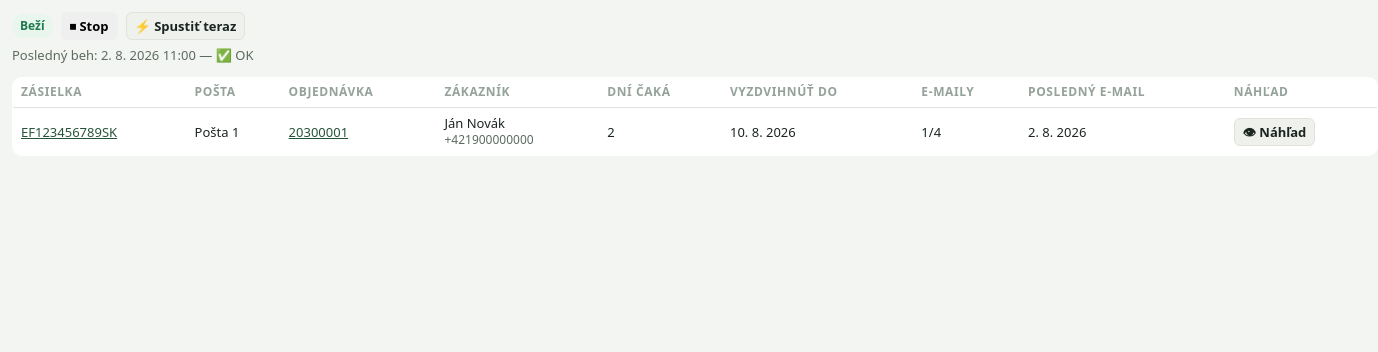
klik na 'Náhľad' zobrazí presne to, čo by odišlo, bez odoslania
What coordinates should you click on to do the following:
click the button "👁 Náhľad"
I would click on:
 (1275, 132)
Its box is [1234,118,1315,146].
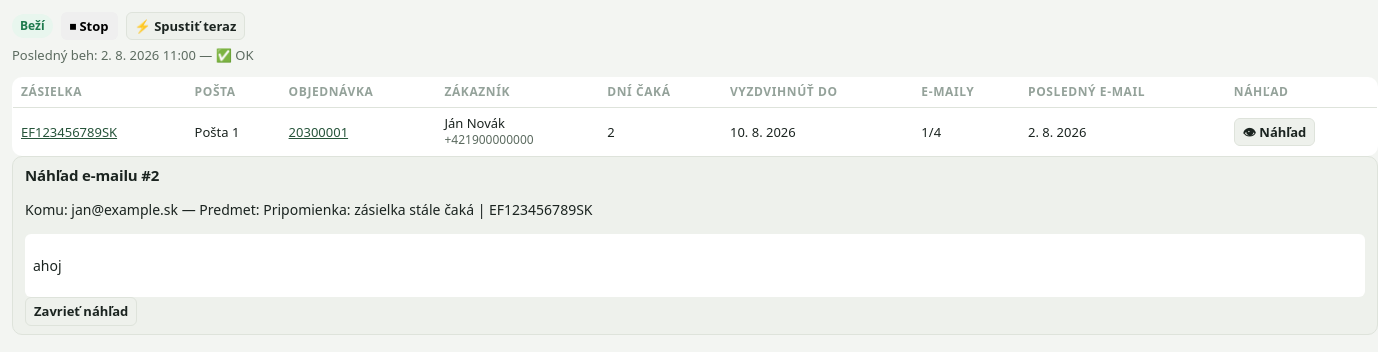
Expected: the element with test id "posta-preview" shows "jan@example.sk", [71,200,178,219]
Expected: the element with test id "posta-preview" shows "Pripomienka", [263,200,592,219]
